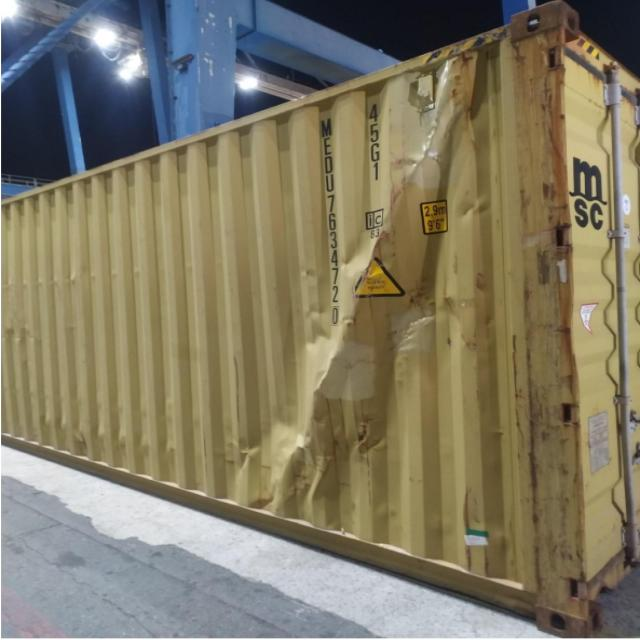dent: (230, 75, 541, 552)
